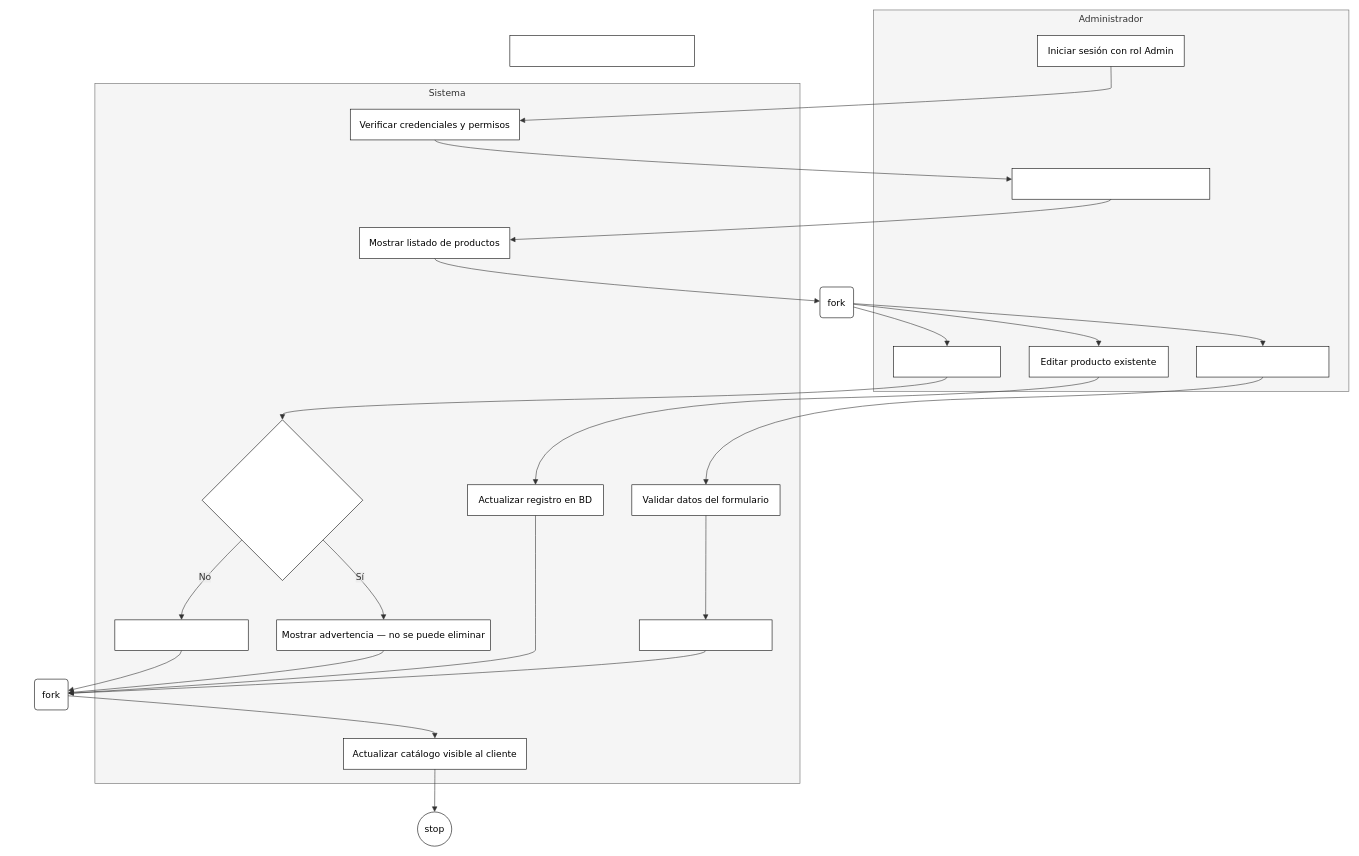
The diagram is 1359 pixels wide and 856 high, and some of its shapes have lost their labels. The centre of each missing label's shape, as x and y in pixels:
"Acceder al panel de gestión de catálogo" goes at point 1110,183.
"Agregar nuevo producto" goes at point 1262,361.
"Eliminar producto" goes at point 947,361.
"Eliminar producto de BD" goes at point 181,635.
"Gestión de catálogo — Administrador" goes at point 602,50.
"Guardar producto en BD" goes at point 705,635.
"¿Tiene pedidos activos?" goes at point 282,500.
